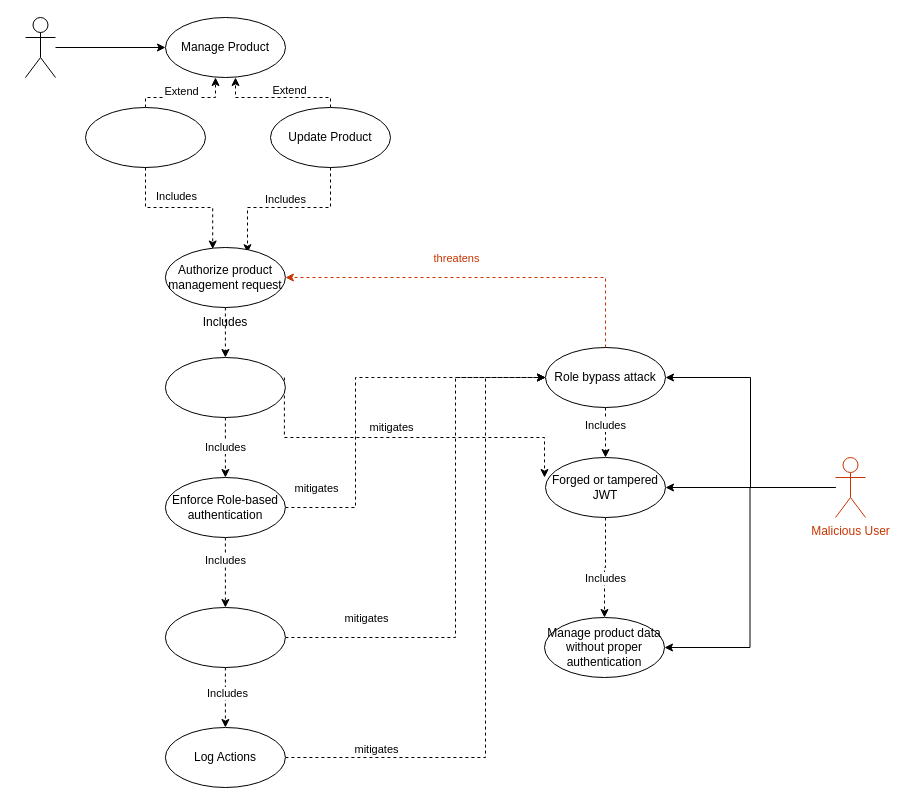
The diagram is 907 pixels wide and 805 high, and some of its shapes have lost their labels. Each missing label, with the centre of its shape:
"Check permissions per request" goes at point 224,637.
"Create Product" goes at point 145,137.
"Manager" goes at point 40,47.
"Validate manager JWT" goes at point 224,387.
